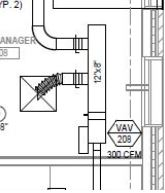VAV: (78, 106, 119, 157)
